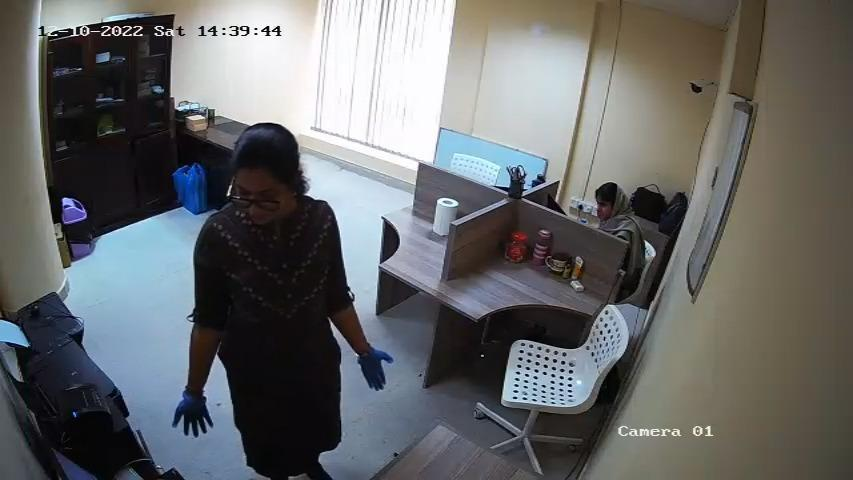apron: (170, 391, 214, 439), (352, 344, 394, 392)
no_gloves: (222, 122, 317, 196), (587, 181, 635, 230)
no_hairnet: (226, 190, 298, 228), (592, 202, 614, 223)
